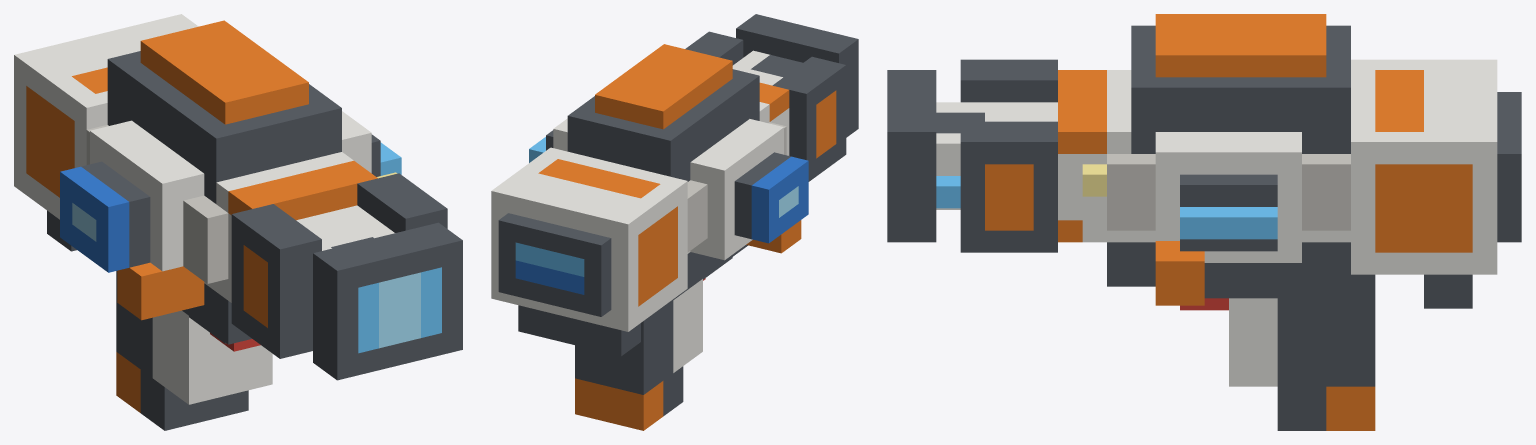
Rendered from Zero_gravity_Plasma_Cutter.obj.
3 views of the same model, side by side, from view 1: azimuth 30°, elevation 25°; view 2: azimuth 150°, elevation 25°; view 3: azimuth 270°, elevation 25° (orthographic). The views are drawn at different scales.
Size of the model in its own units: 1.4 by 1.7 by 2.6.
1 material, 1 textured.
